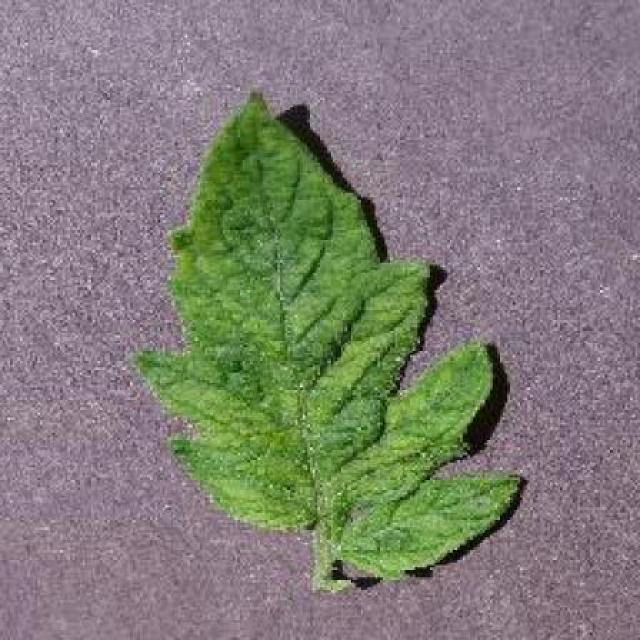Mosaic Virus: (134, 92, 525, 575)
